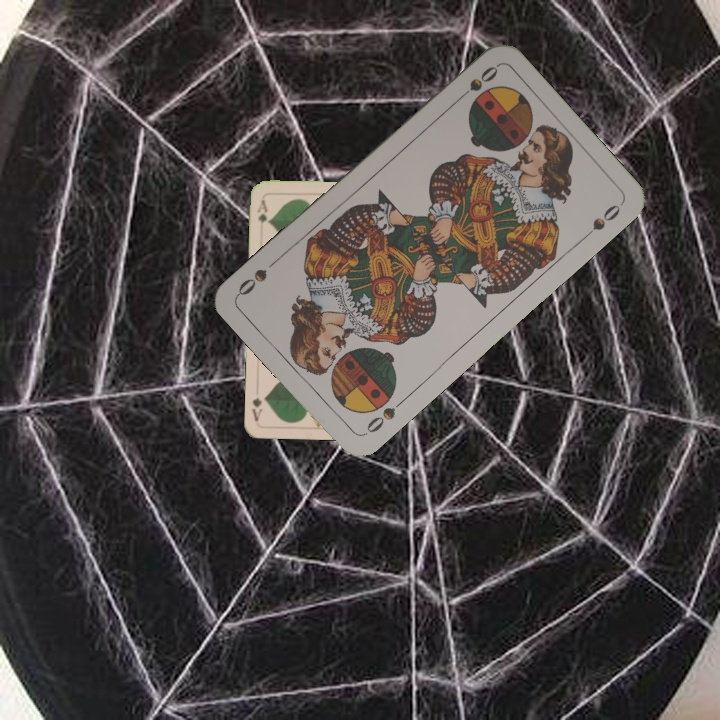GA: (253, 196, 272, 227)
SO: (451, 61, 501, 105), (359, 394, 408, 438)
